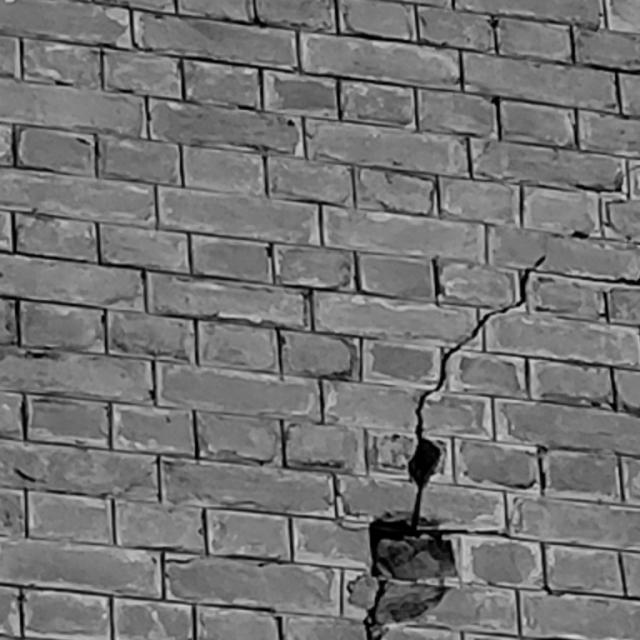crack: (347, 251, 548, 640)
